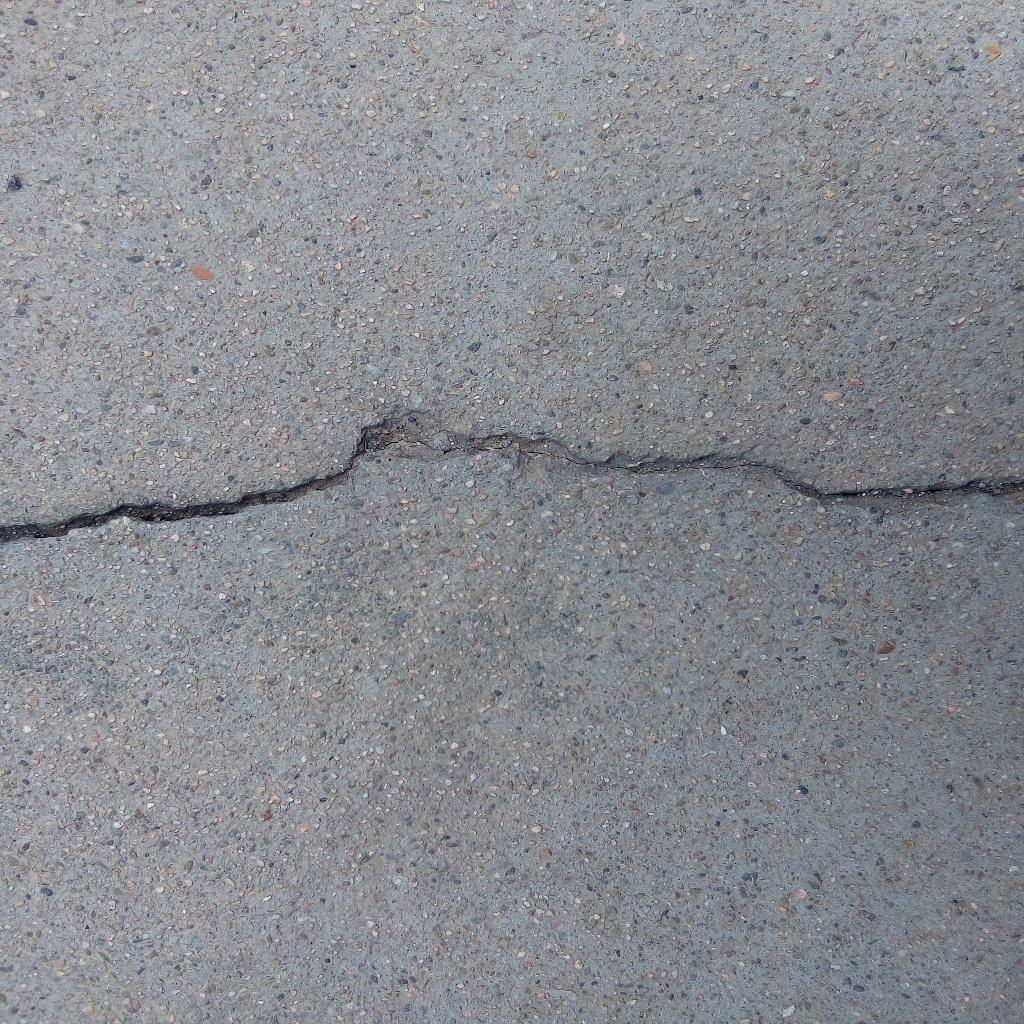Crack: (1, 409, 1024, 545)
